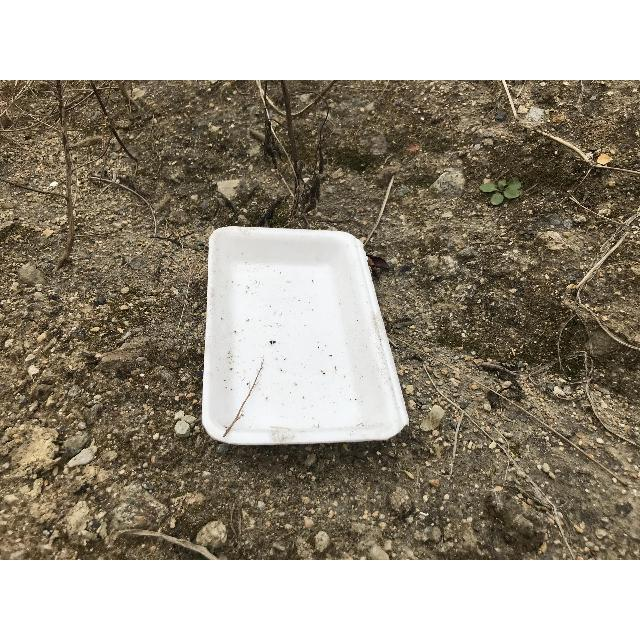Recipiente plastico: (202, 228, 409, 444)
